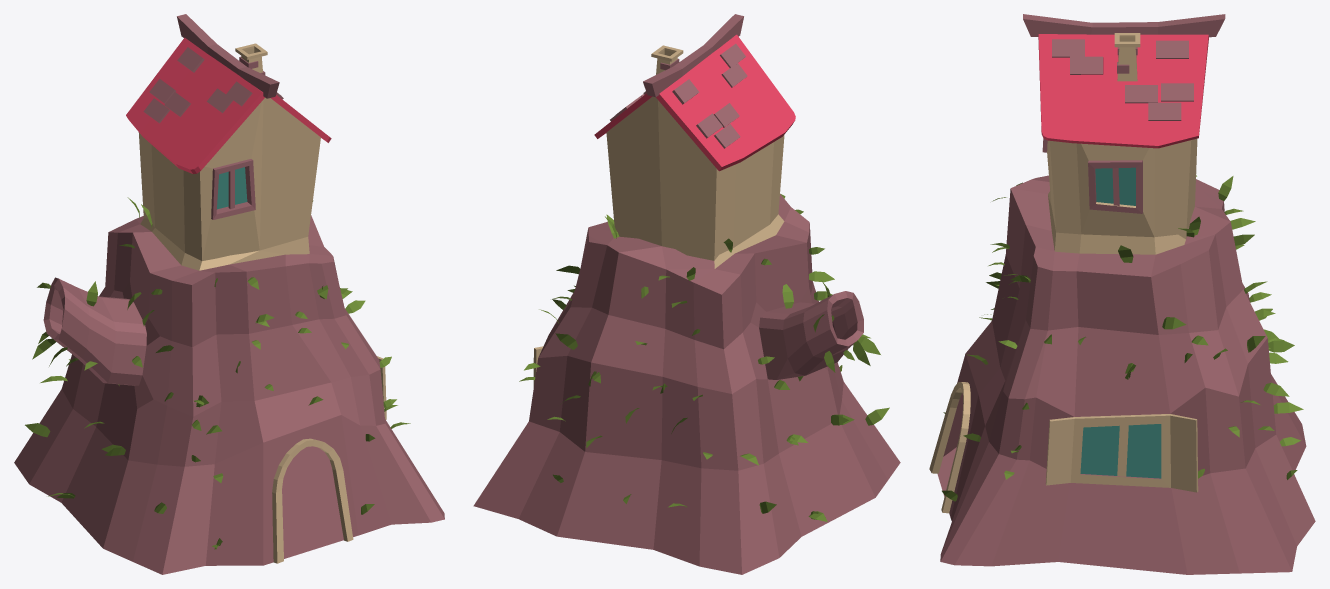
File: stump_house_with_solidify.fbx
3 renders of one model, left to right at view 1: azimuth 30°, elevation 25°; view 2: azimuth 150°, elevation 25°; view 3: azimuth 270°, elevation 25°, orthographic. The views are drawn at different scales.
Parts seen in each view (by area): view 1: Tree_house, Roof, Cube.008, Cube.001; view 2: Tree_house, Roof, Cube.008, Cube.001; view 3: Tree_house, Roof, Cube.008, Cube.001, Cube.003, Cube.004, Telhas, Cube.006, Cube.005, Cube.002.
Boxes of the visible parts, box(x1,y1,x2,y2) form: Tree_house: box(14, 97, 444, 574); Roof: box(126, 37, 331, 173); Cube.008: box(177, 14, 279, 98); Cube.001: box(235, 43, 267, 74); Tree_house: box(473, 96, 900, 574); Roof: box(594, 34, 795, 171); Cube.008: box(643, 14, 743, 97); Cube.001: box(651, 45, 683, 74); Tree_house: box(929, 138, 1315, 574); Roof: box(1038, 34, 1208, 148); Cube.008: box(1023, 14, 1225, 37); Cube.001: box(1114, 33, 1140, 81); Cube.003: box(1070, 56, 1103, 74); Cube.004: box(1148, 102, 1181, 120); Telhas: box(1156, 40, 1188, 58); Cube.006: box(1161, 83, 1193, 101); Cube.005: box(1125, 85, 1157, 103); Cube.002: box(1052, 39, 1084, 57).
Size of the model in its own units: 316 by 393 by 287.
